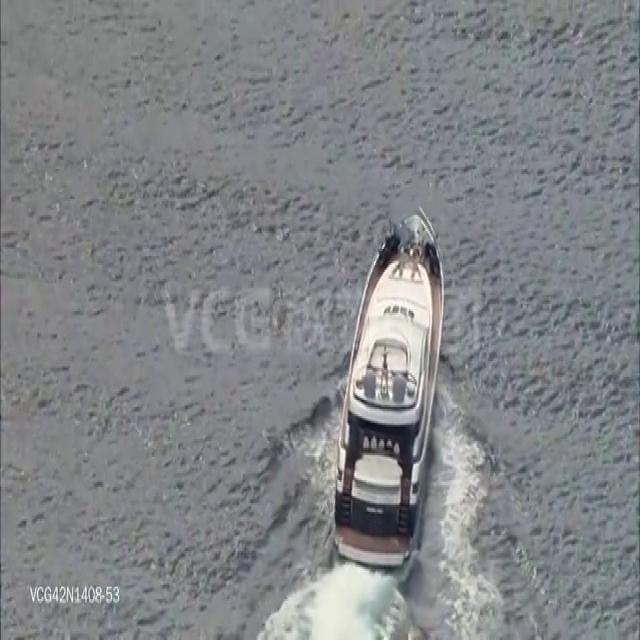houseboat: (332, 204, 443, 577)
